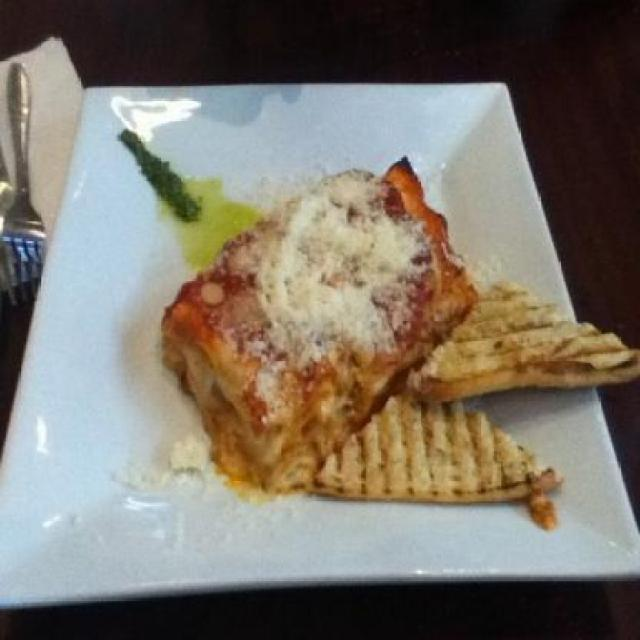Lasagna: (140, 170, 420, 433)
